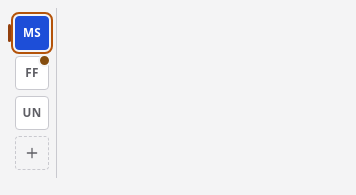
EuiDocumentRail › moves focus with arrow keys and shows the flyout for the focused tile
Press ArrowUp in the button with class "eui-rail__tile" showing "MS", box [15,16,49,50]
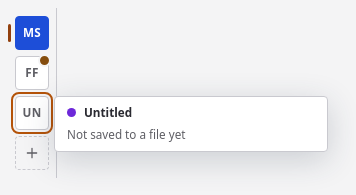
Focus the button with class "eui-rail__tile" showing "MS" at (32, 33), box [15,16,49,50]
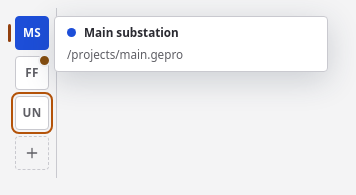
Expected: the tooltip "Main substation /projects/main.gepro" is shown, [54,16,328,72]
